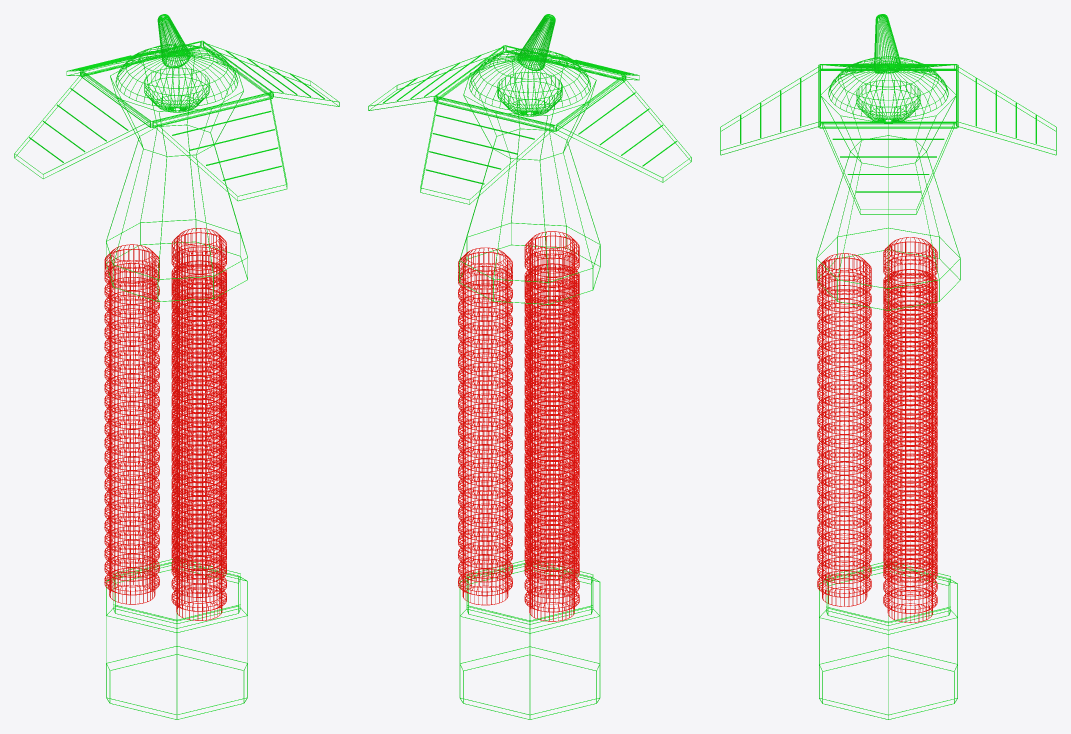
Rendered from solar-matrix-highlight-storage-cells.glb.
3 renders of one model, left to right at view 1: azimuth 30°, elevation 25°; view 2: azimuth 150°, elevation 25°; view 3: azimuth 270°, elevation 25°, orthographic.
Parts seen in each view (by area): view 1: storage-cells technical wire, chassis technical wire, laser-turret technical wire, solar-panels technical wire, solar-panels Collector hinge 4 technical wire, solar-panels Collector hinge 3 technical wire, solar-panels Collector hinge 1 technical wire, solar-panels Collector hinge 2 technical wire; view 2: storage-cells technical wire, chassis technical wire, laser-turret technical wire, solar-panels technical wire, solar-panels Collector hinge 2 technical wire, solar-panels Collector hinge 3 technical wire, solar-panels Collector hinge 1 technical wire, solar-panels Collector hinge 4 technical wire; view 3: storage-cells technical wire, chassis technical wire, laser-turret technical wire, solar-panels technical wire, solar-panels Collector hinge 1 technical wire, solar-panels Collector hinge 2 technical wire, solar-panels Collector hinge 4 technical wire.
Boxes of the visible parts, left/top/right/bottom form: storage-cells technical wire: left=104, top=228, right=226, bottom=620; chassis technical wire: left=106, top=55, right=247, bottom=719; laser-turret technical wire: left=115, top=14, right=238, bottom=112; solar-panels technical wire: left=80, top=40, right=273, bottom=127; solar-panels Collector hinge 4 technical wire: left=153, top=94, right=287, bottom=201; solar-panels Collector hinge 3 technical wire: left=14, top=72, right=150, bottom=178; solar-panels Collector hinge 1 technical wire: left=203, top=42, right=339, bottom=106; solar-panels Collector hinge 2 technical wire: left=66, top=42, right=200, bottom=75; storage-cells technical wire: left=458, top=231, right=579, bottom=621; chassis technical wire: left=459, top=59, right=600, bottom=719; laser-turret technical wire: left=469, top=14, right=590, bottom=116; solar-panels technical wire: left=433, top=45, right=626, bottom=131; solar-panels Collector hinge 2 technical wire: left=420, top=98, right=553, bottom=204; solar-panels Collector hinge 3 technical wire: left=556, top=76, right=691, bottom=182; solar-panels Collector hinge 1 technical wire: left=368, top=46, right=503, bottom=110; solar-panels Collector hinge 4 technical wire: left=506, top=46, right=639, bottom=80; storage-cells technical wire: left=817, top=237, right=937, bottom=622; chassis technical wire: left=816, top=66, right=960, bottom=719; laser-turret technical wire: left=828, top=14, right=948, bottom=123; solar-panels technical wire: left=818, top=64, right=958, bottom=128; solar-panels Collector hinge 1 technical wire: left=822, top=123, right=954, bottom=214; solar-panels Collector hinge 2 technical wire: left=956, top=65, right=1056, bottom=155; solar-panels Collector hinge 4 technical wire: left=720, top=65, right=820, bottom=155.
Bounding box in the file's own units: 1.68 × 3.68 × 1.68.
